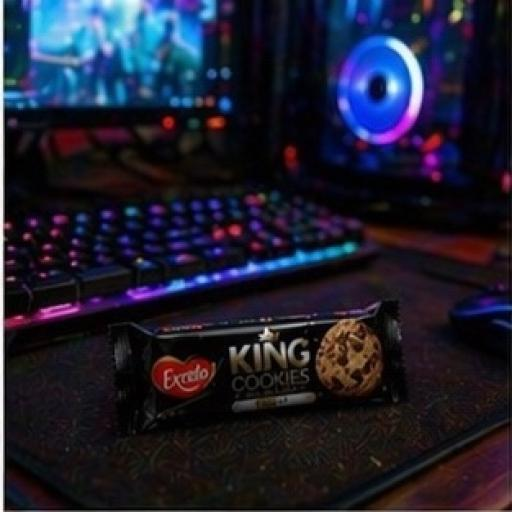king-cooking: (86, 277, 432, 447)
